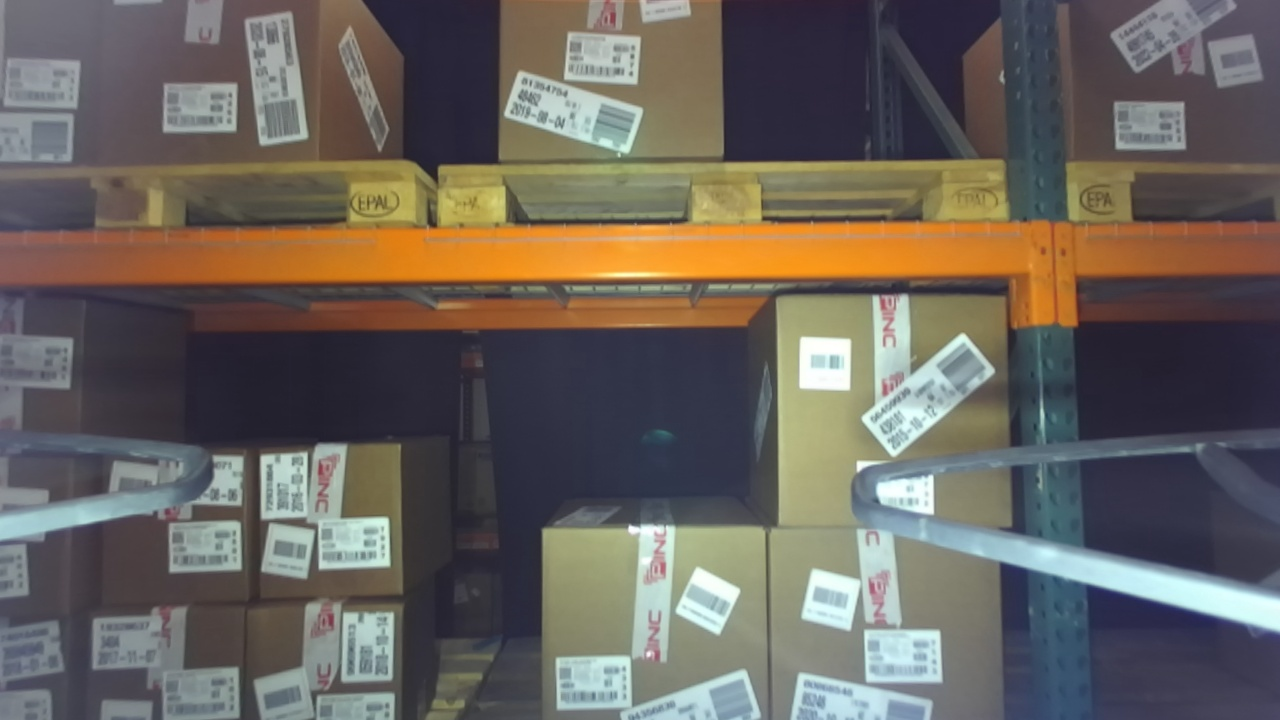box: (746, 260, 1036, 533), (750, 504, 1017, 720), (526, 509, 784, 720), (86, 1, 340, 191), (1043, 3, 1280, 192), (486, 1, 732, 177), (235, 423, 431, 614), (77, 438, 276, 621), (232, 596, 440, 720), (70, 598, 276, 712)
